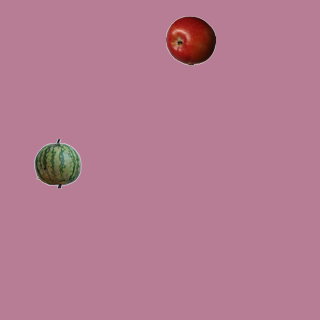Apple Braeburn: (165, 15, 215, 65)
Watermelon: (32, 138, 82, 188)
